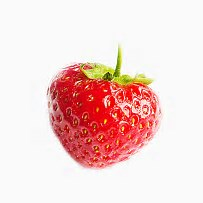strawberry: (45, 58, 166, 174)
